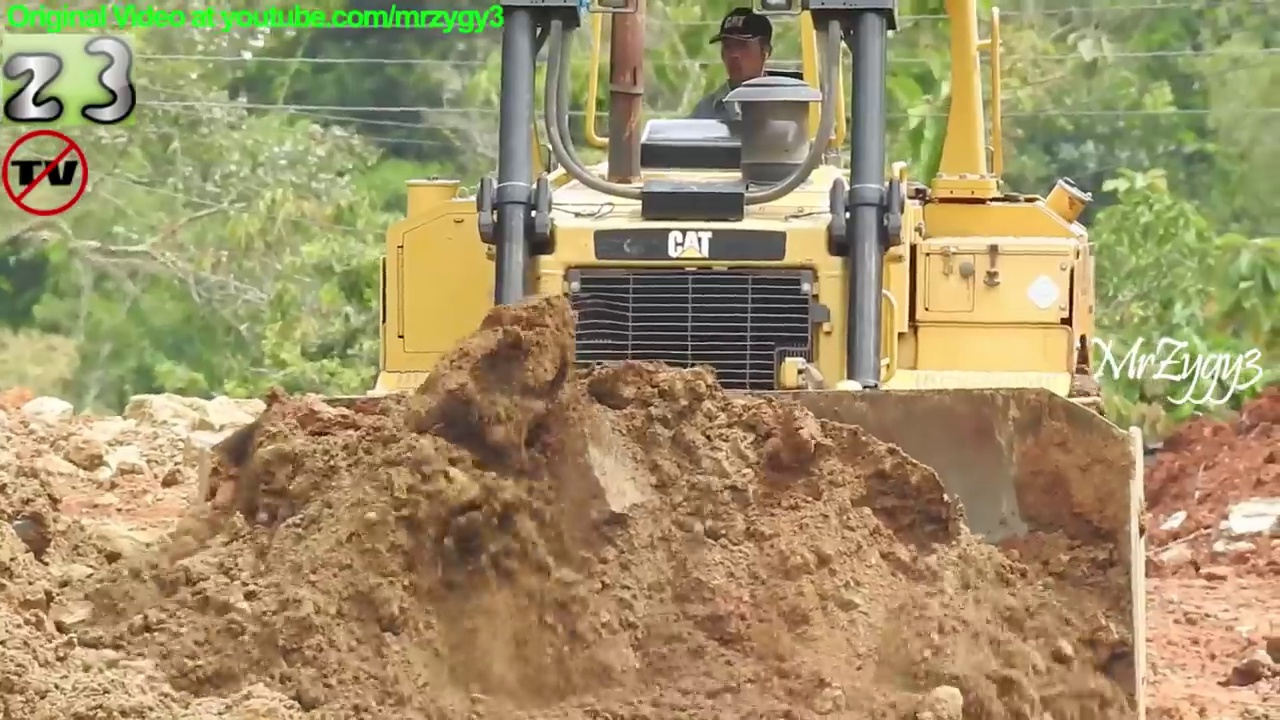bulldozer: (206, 1, 1160, 720)
person: (681, 8, 782, 129)
